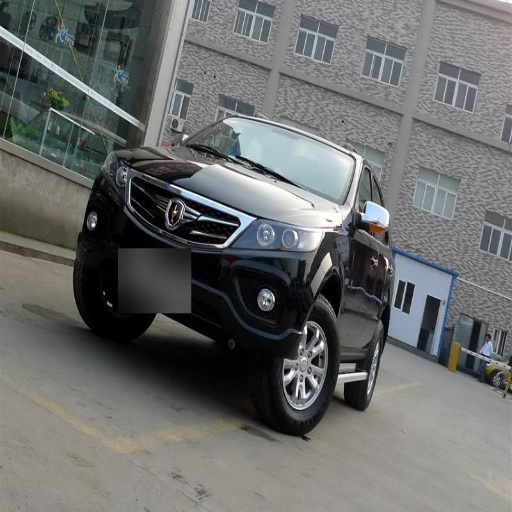front_bumper: (123, 213, 330, 343)
